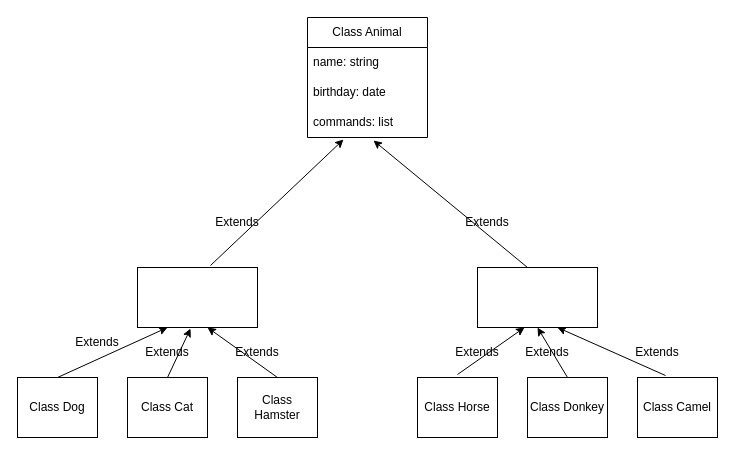
This 735x455 diagram has some shape labels left out. Each missing label, with the centre of its shape:
"Class Pack" goes at (537,297).
"Class Pet" goes at (197,297).
